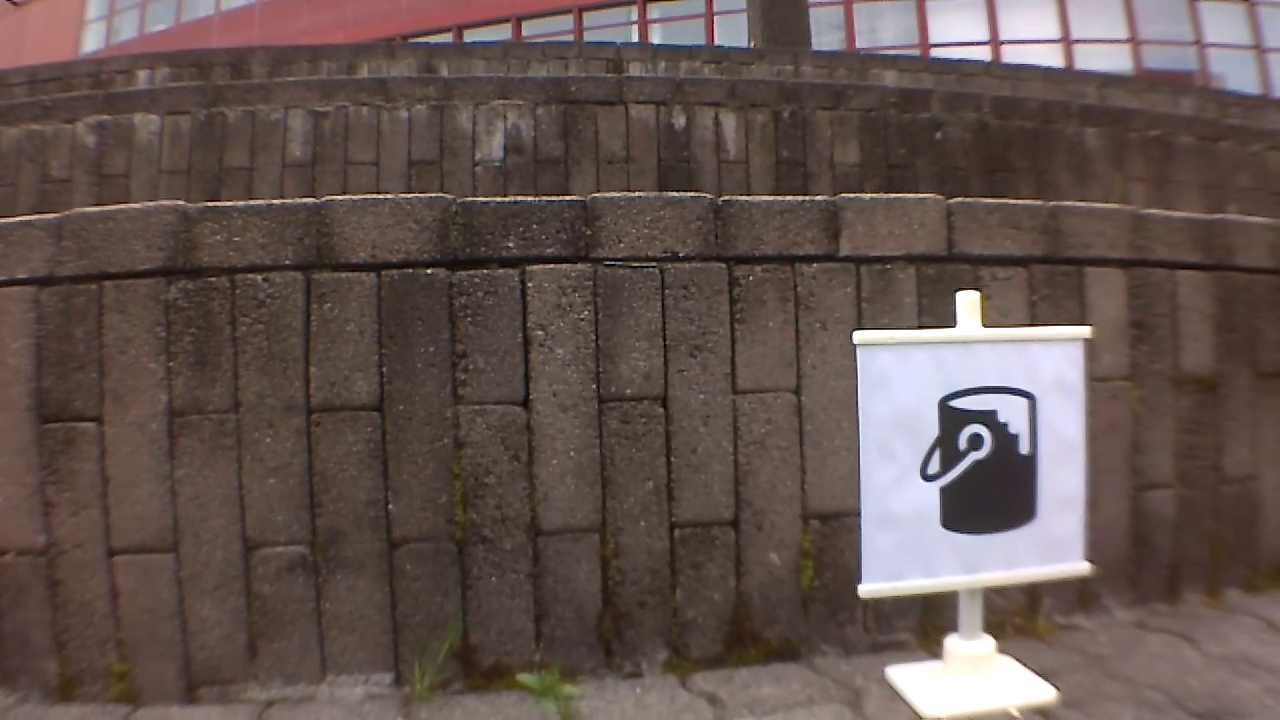bucket: (911, 384, 1053, 535)
